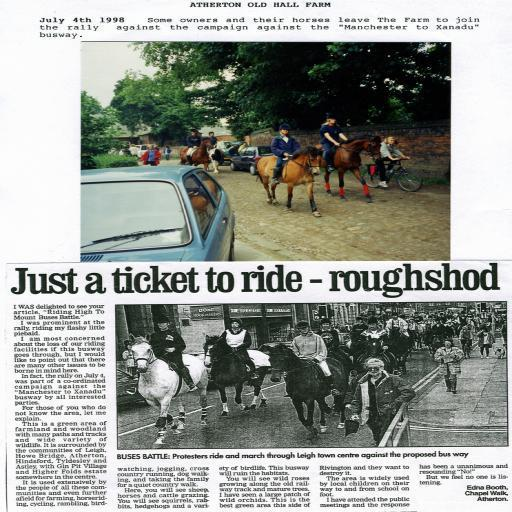horse: (128, 334, 206, 452), (266, 341, 348, 448), (202, 336, 270, 420), (312, 134, 382, 206), (256, 146, 324, 218), (179, 137, 213, 174), (206, 140, 228, 175)
